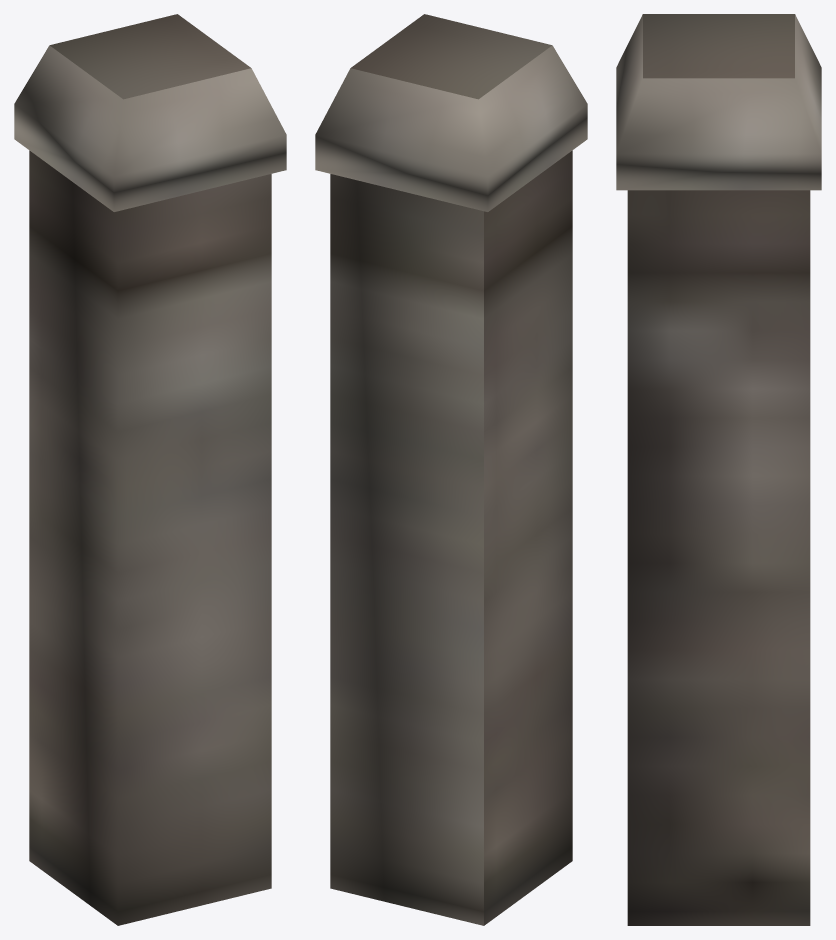
The model's file is corner.glb.
3 renders of one model, left to right at view 1: azimuth 30°, elevation 25°; view 2: azimuth 150°, elevation 25°; view 3: azimuth 270°, elevation 25°, orthographic. The views are drawn at different scales.
Visible parts, largest first — view 1: corner; view 2: corner; view 3: corner.
Part boxes in pixels (x1,y1,x2,y2): corner: [14, 14, 286, 925]; corner: [315, 14, 587, 925]; corner: [616, 14, 821, 925].
Size of the model in its own units: 2 by 9.06 by 2.
1 material, 1 textured.
